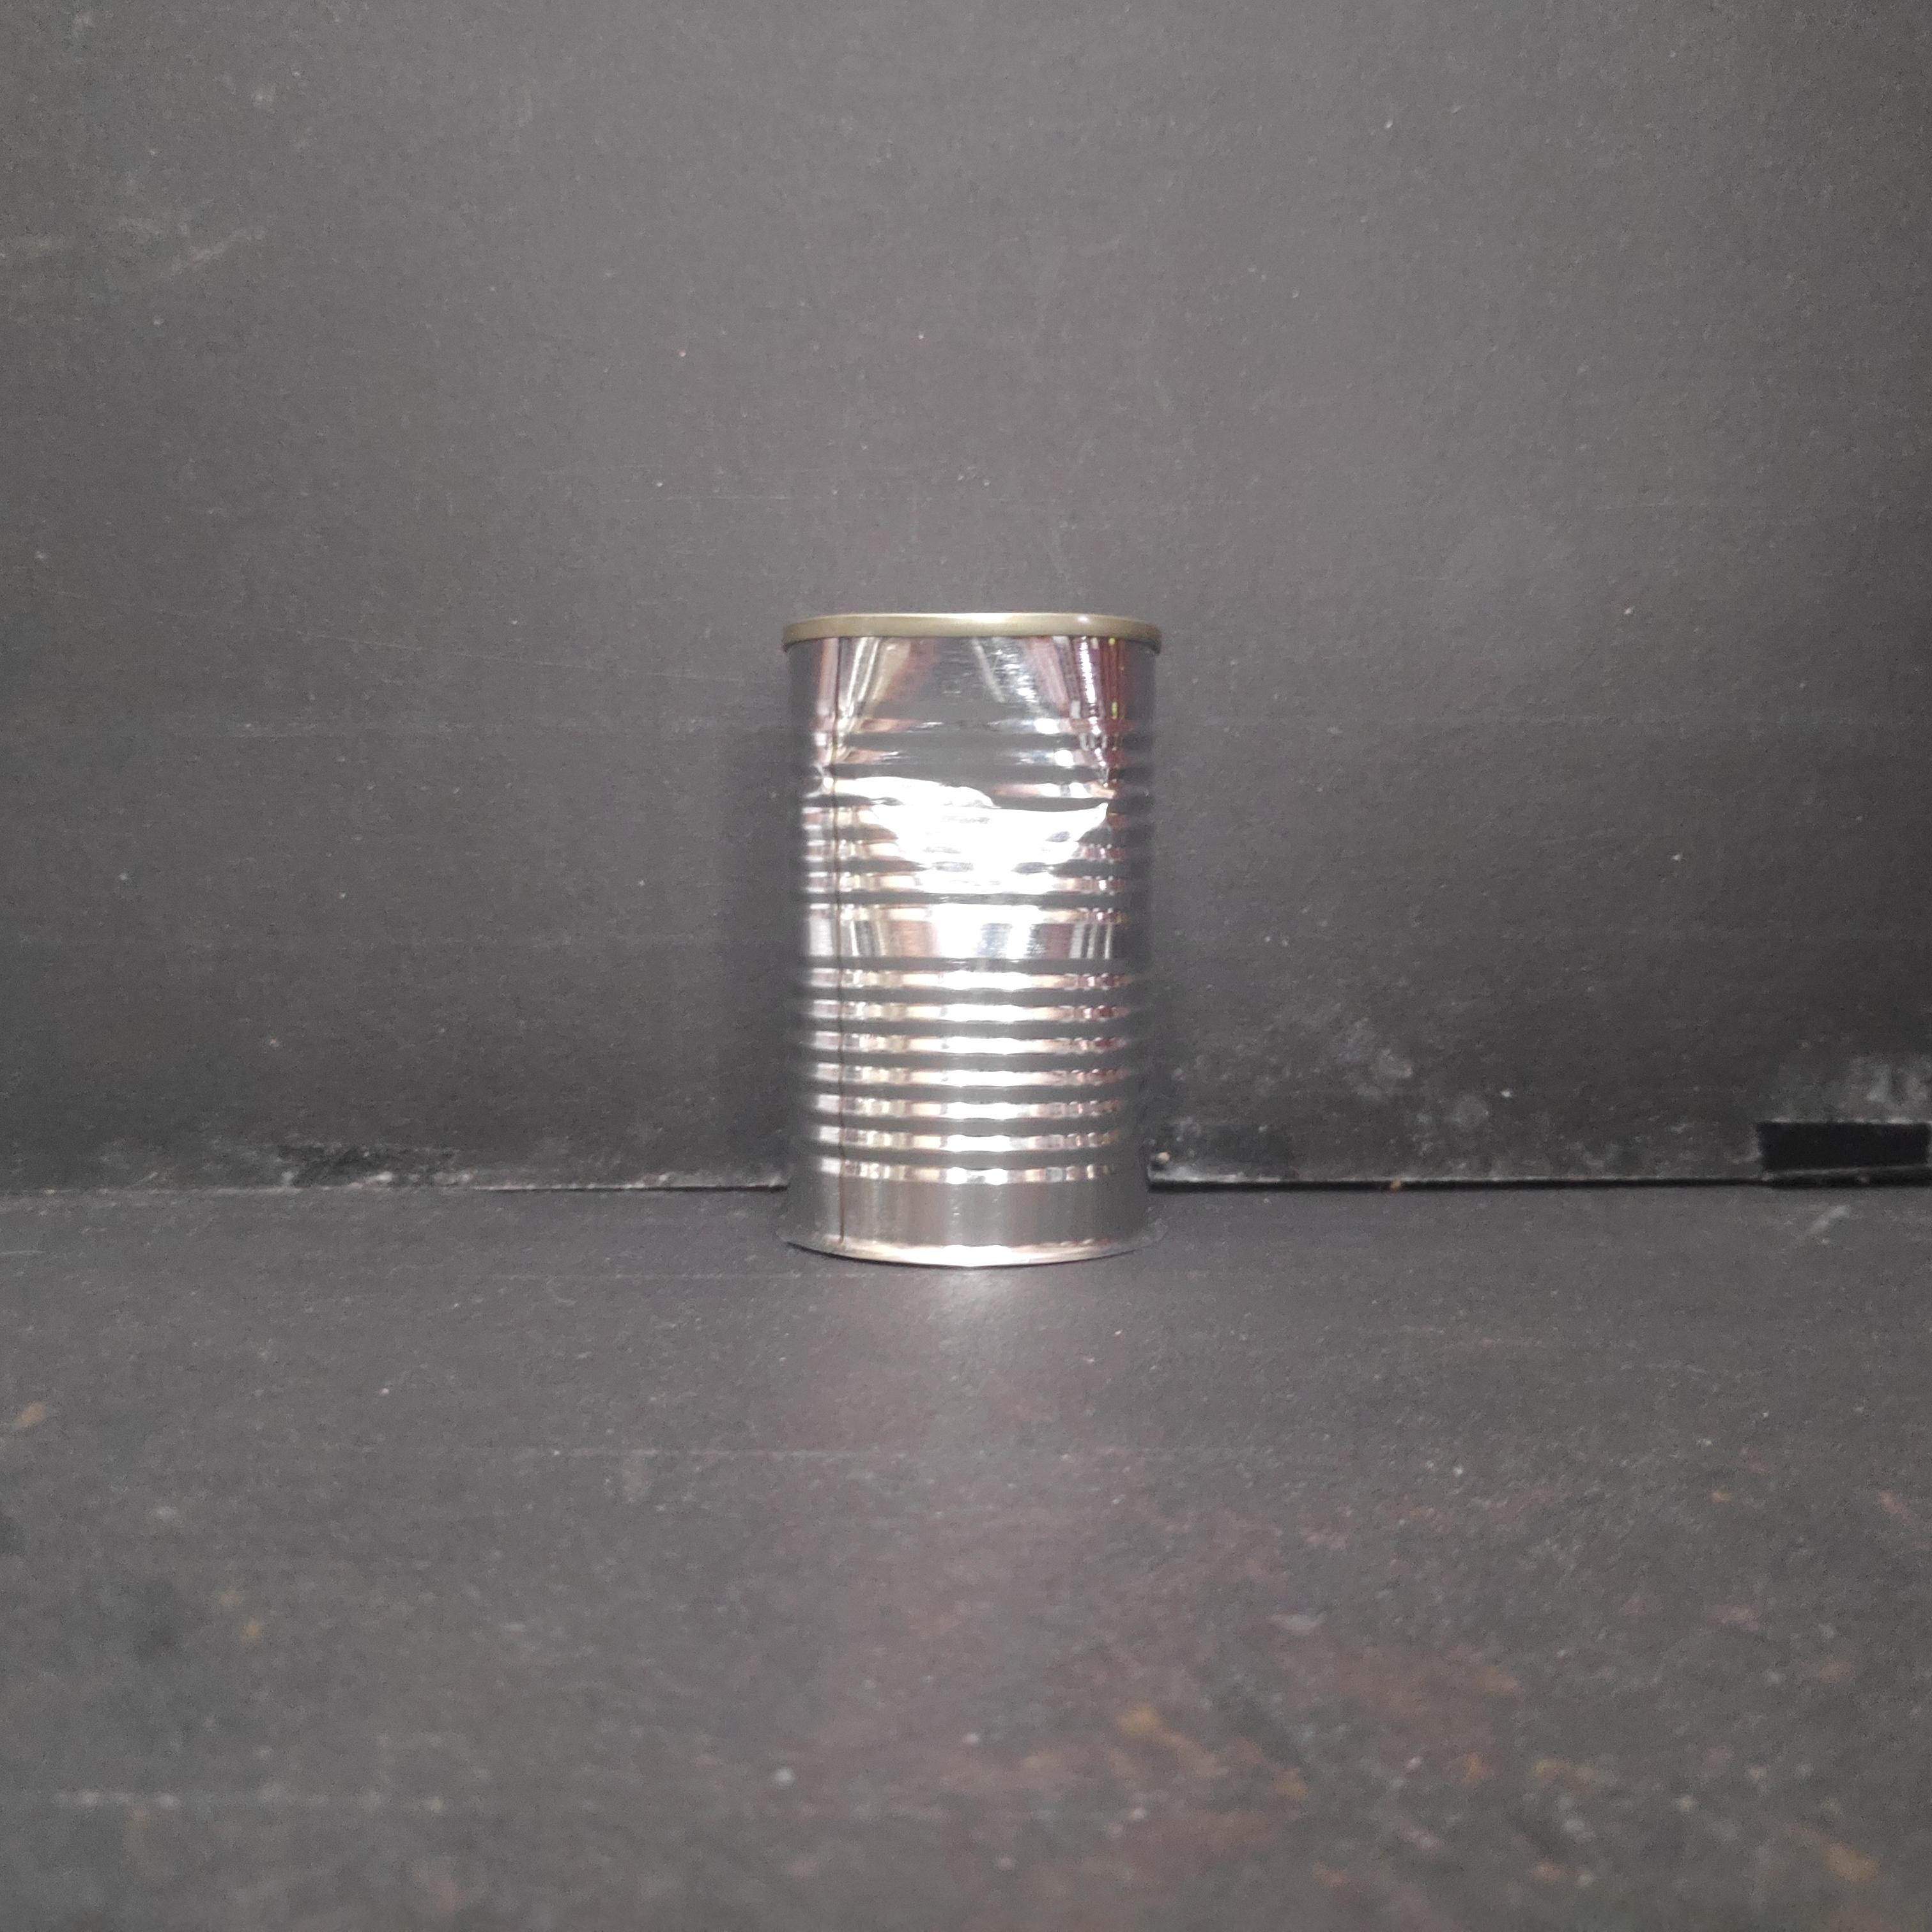Minor Defect: (768, 598, 1168, 1283)
